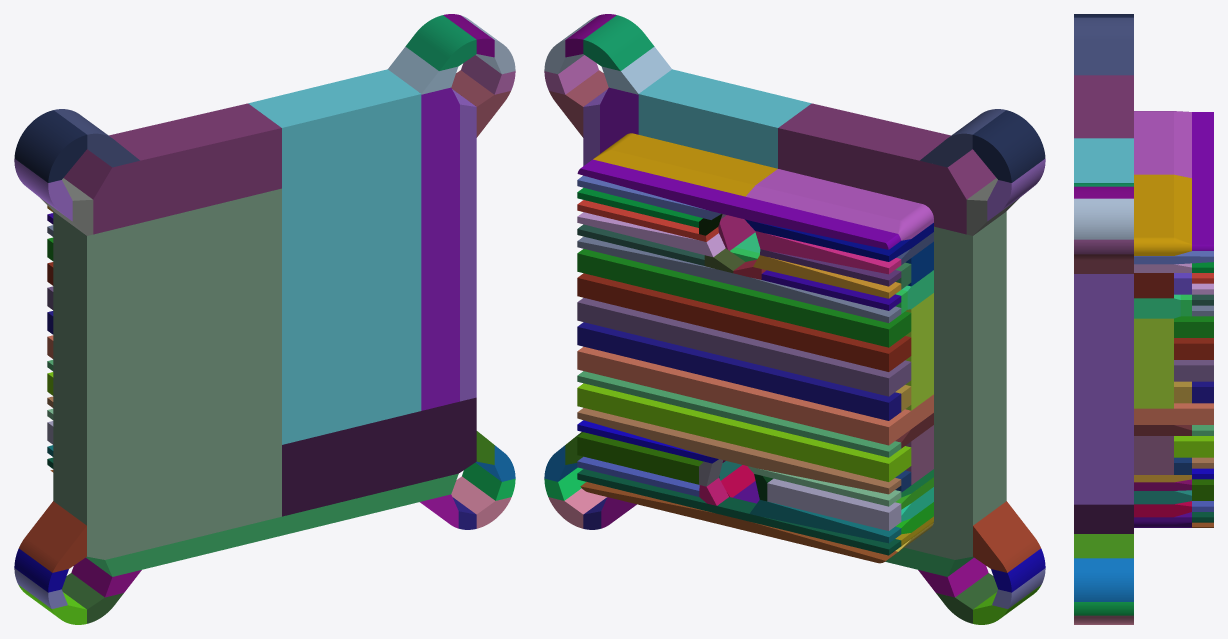
The model's file is 1_canonical.obj.
3 views of the same model, side by side, from view 1: azimuth 30°, elevation 25°; view 2: azimuth 150°, elevation 25°; view 3: azimuth 270°, elevation 25° (orthographic). The views are drawn at different scales.
Visible parts, largest first — view 1: geometry_0, geometry_2, geometry_28, geometry_26, geometry_51, geometry_10, geometry_46, geometry_21, geometry_31, geometry_53, geometry_54, geometry_16 (+15 smaller); view 2: geometry_0, geometry_28, geometry_2, geometry_9, geometry_15, geometry_4, geometry_8, geometry_1, geometry_20, geometry_32, geometry_38, geometry_59 (+47 smaller); view 3: geometry_46, geometry_59, geometry_28, geometry_38, geometry_34, geometry_16, geometry_32, geometry_2, geometry_29, geometry_6, geometry_26, geometry_9 (+39 smaller).
Boxes of the visible parts, x1,y1,x2,y2 form: geometry_0: (53, 188, 281, 559); geometry_2: (248, 69, 421, 444); geometry_28: (63, 103, 281, 234); geometry_26: (282, 397, 476, 516); geometry_51: (421, 87, 459, 410); geometry_10: (86, 473, 458, 576); geometry_46: (452, 89, 476, 401); geometry_21: (14, 110, 87, 182); geometry_31: (19, 501, 86, 572); geometry_53: (405, 15, 476, 70); geometry_54: (388, 47, 457, 94); geometry_16: (54, 109, 139, 167); geometry_0: (905, 211, 1006, 559); geometry_28: (778, 103, 996, 234); geometry_2: (638, 69, 811, 168); geometry_9: (577, 346, 933, 445); geometry_15: (577, 273, 911, 371); geometry_4: (577, 383, 911, 481); geometry_8: (577, 249, 911, 347); geometry_1: (577, 297, 911, 396); geometry_20: (577, 322, 901, 420); geometry_32: (577, 159, 900, 249); geometry_38: (746, 169, 933, 240); geometry_59: (593, 133, 777, 196); geometry_46: (1074, 274, 1133, 504); geometry_59: (1134, 174, 1191, 255); geometry_28: (1074, 75, 1133, 138); geometry_38: (1134, 111, 1191, 178); geometry_34: (1134, 318, 1173, 408); geometry_16: (1074, 17, 1133, 75); geometry_32: (1192, 112, 1213, 250); geometry_2: (1074, 138, 1133, 182); geometry_29: (1074, 558, 1133, 601); geometry_6: (1074, 198, 1133, 239); geometry_26: (1074, 504, 1133, 533); geometry_9: (1134, 403, 1213, 424).
Size of the model in its own units: 0.12 by 0.12 by 0.035.
